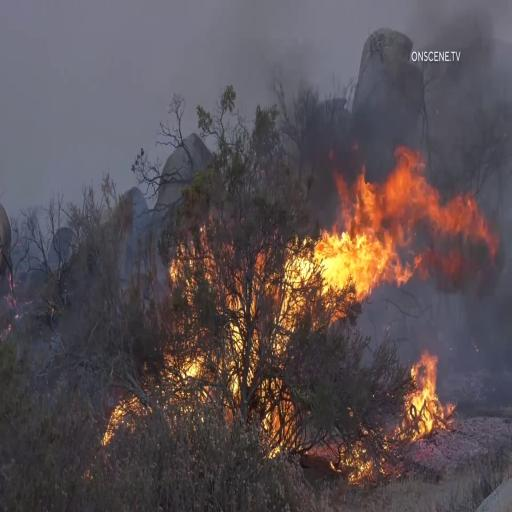fire: (320, 163, 498, 310)
